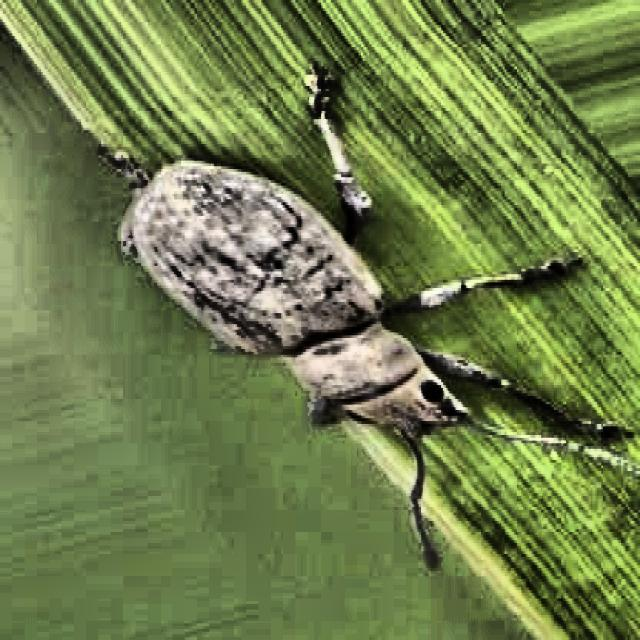Stink bug: (69, 63, 532, 579)
